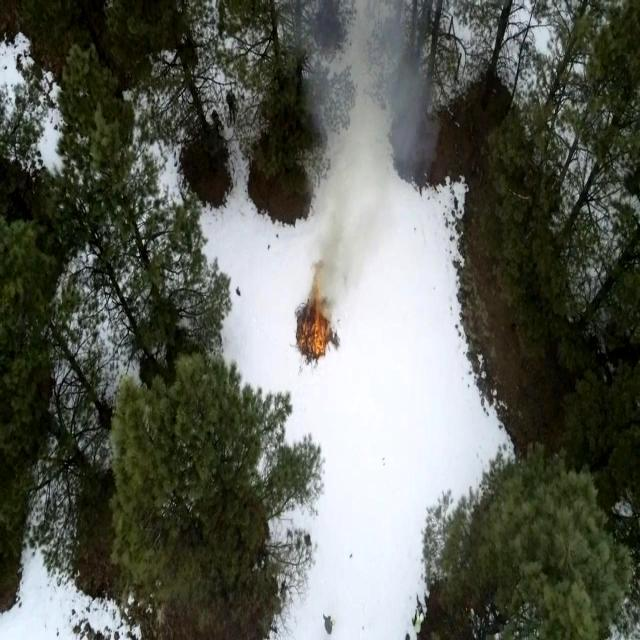Fire: (302, 300, 337, 357)
Smoke: (302, 0, 437, 285)
